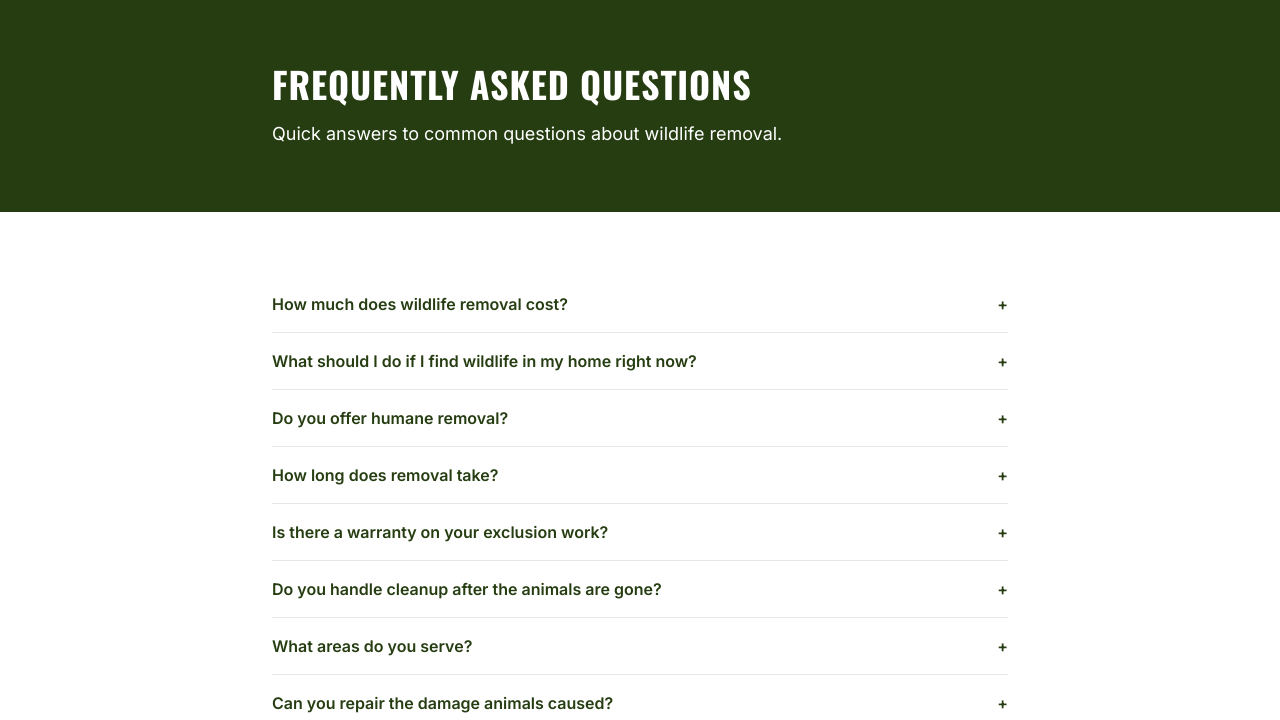
FAQ › clicking the first question reveals its answer
Click the button "How much does wildlife removal cost? +".
click(420, 304)  # box [272,292,1008,316]
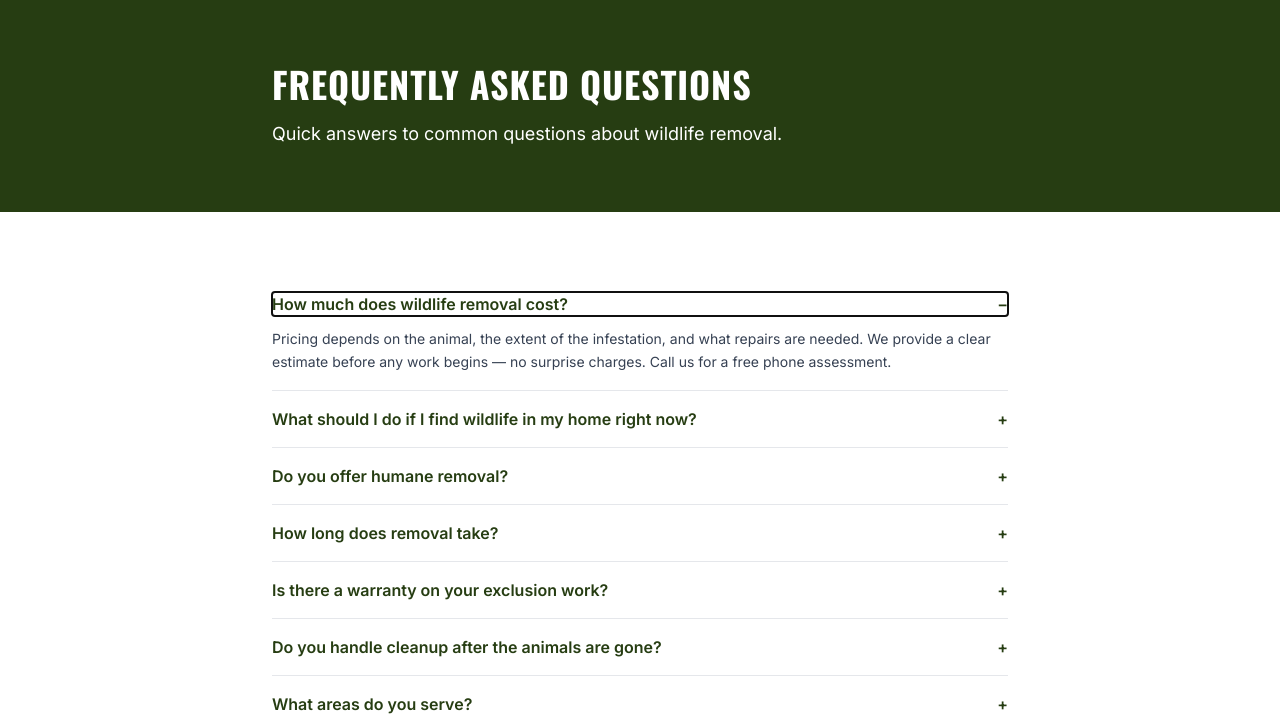
Expected: the text "Pricing depends on the animal" is shown, [272,330,991,370]
